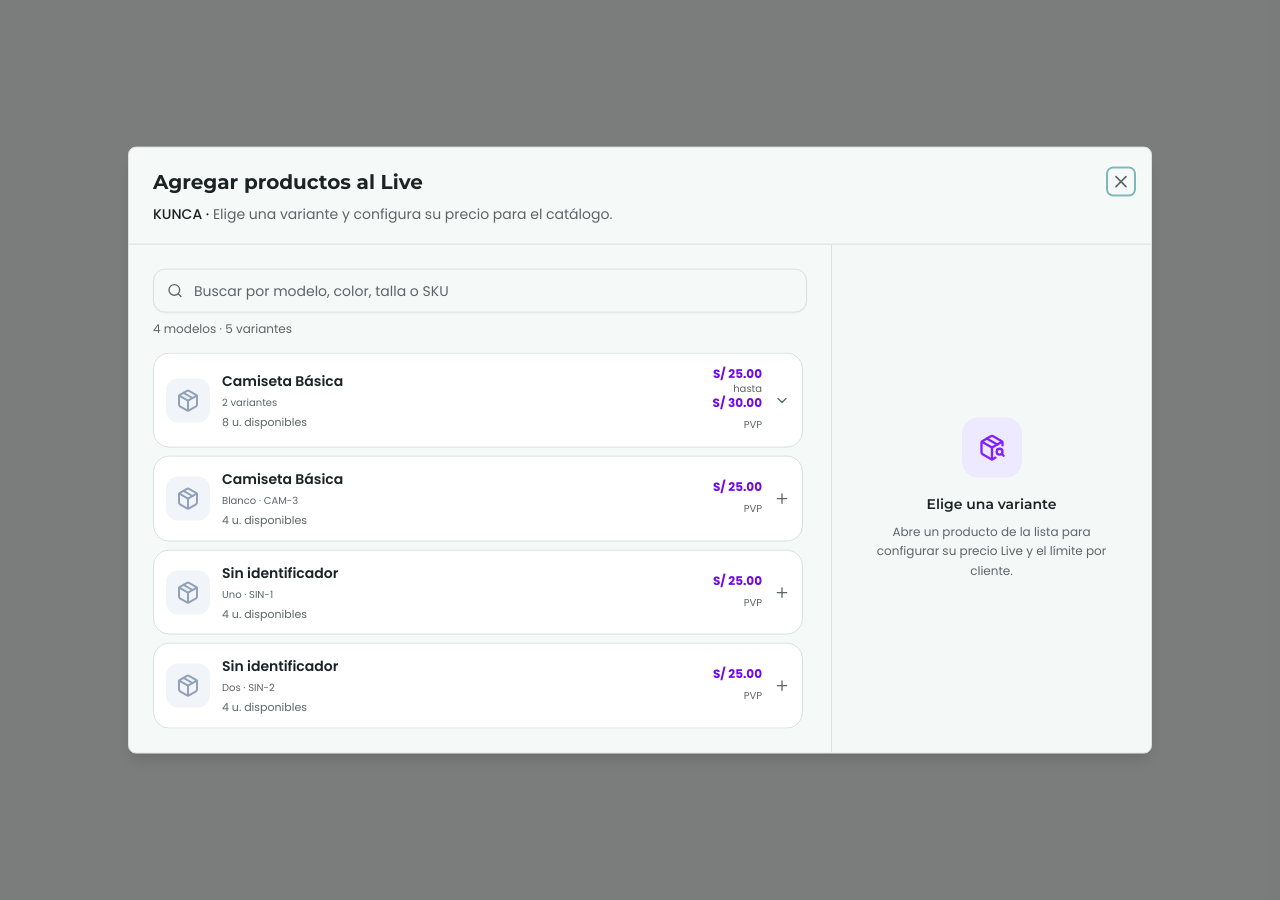
Scenario: groups variants by product ID, keeping homonyms and missing IDs separate
Expected: the text "4 modelos · 5 variantes" is shown, top-left (153, 320), bottom-right (292, 337)
Expected: the text "Camiseta Básica" is shown 2 times, top-left (222, 370), bottom-right (343, 390); top-left (222, 469), bottom-right (343, 489)
Step 1. Click the button with aria-label "Ver variantes de Camiseta Básica (CAM-1)" → {"x": 188, "y": 400}, box top-left (154, 354), bottom-right (802, 447)
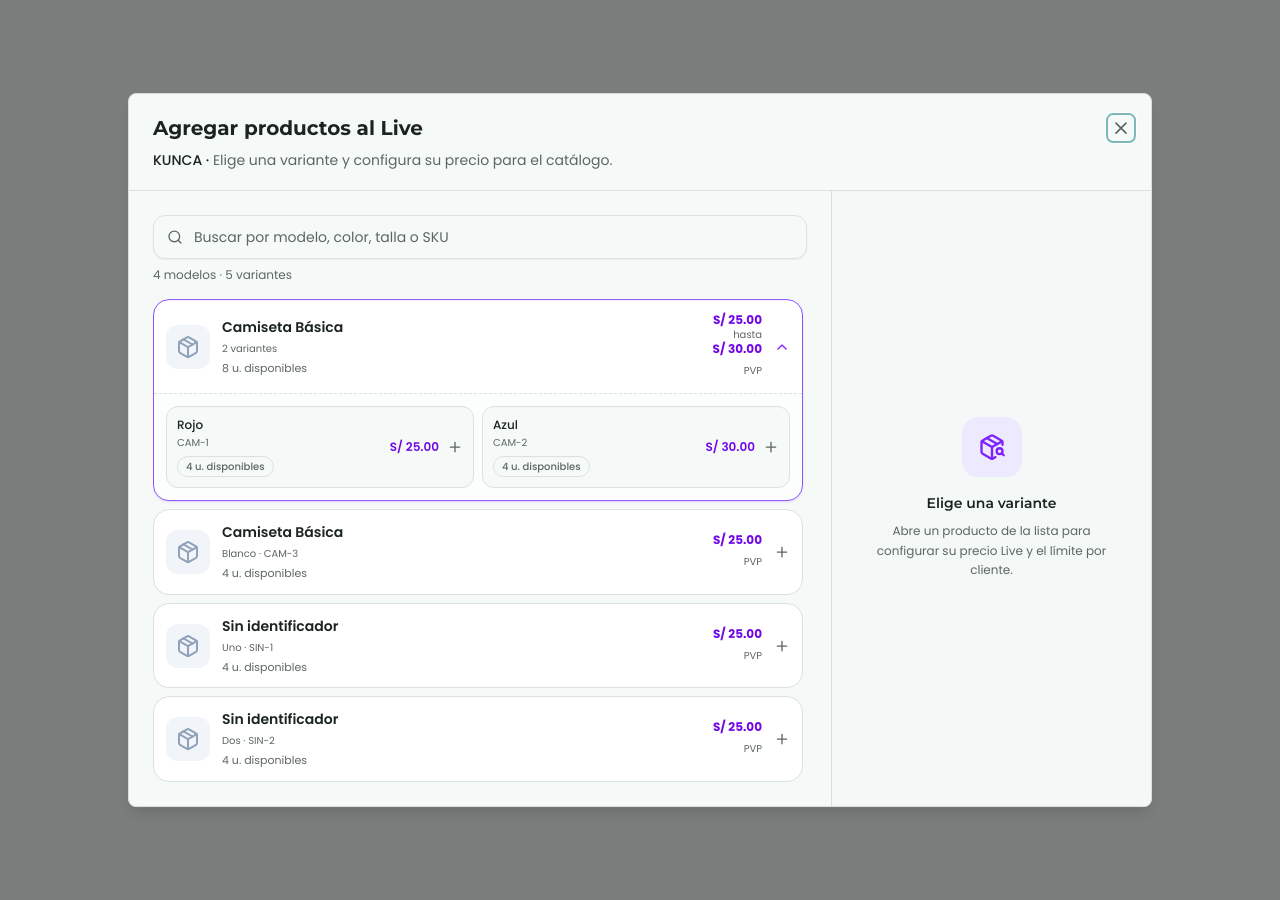
Expected: the text "2 variantes" is shown, top-left (222, 341), bottom-right (277, 356)
Expected: the button with aria-label "Ver variantes de Camiseta Básica (CAM-1)" is expanded, top-left (154, 300), bottom-right (802, 393)
Expected: the button with aria-label "Configurar Camiseta Básica, Azul, SKU CAM-2" is shown, top-left (482, 406), bottom-right (790, 488)
Step 2. Type "CAM-2" into the field named "Buscar producto para live" → {"x": 480, "y": 237}, box top-left (153, 215), bottom-right (807, 259)
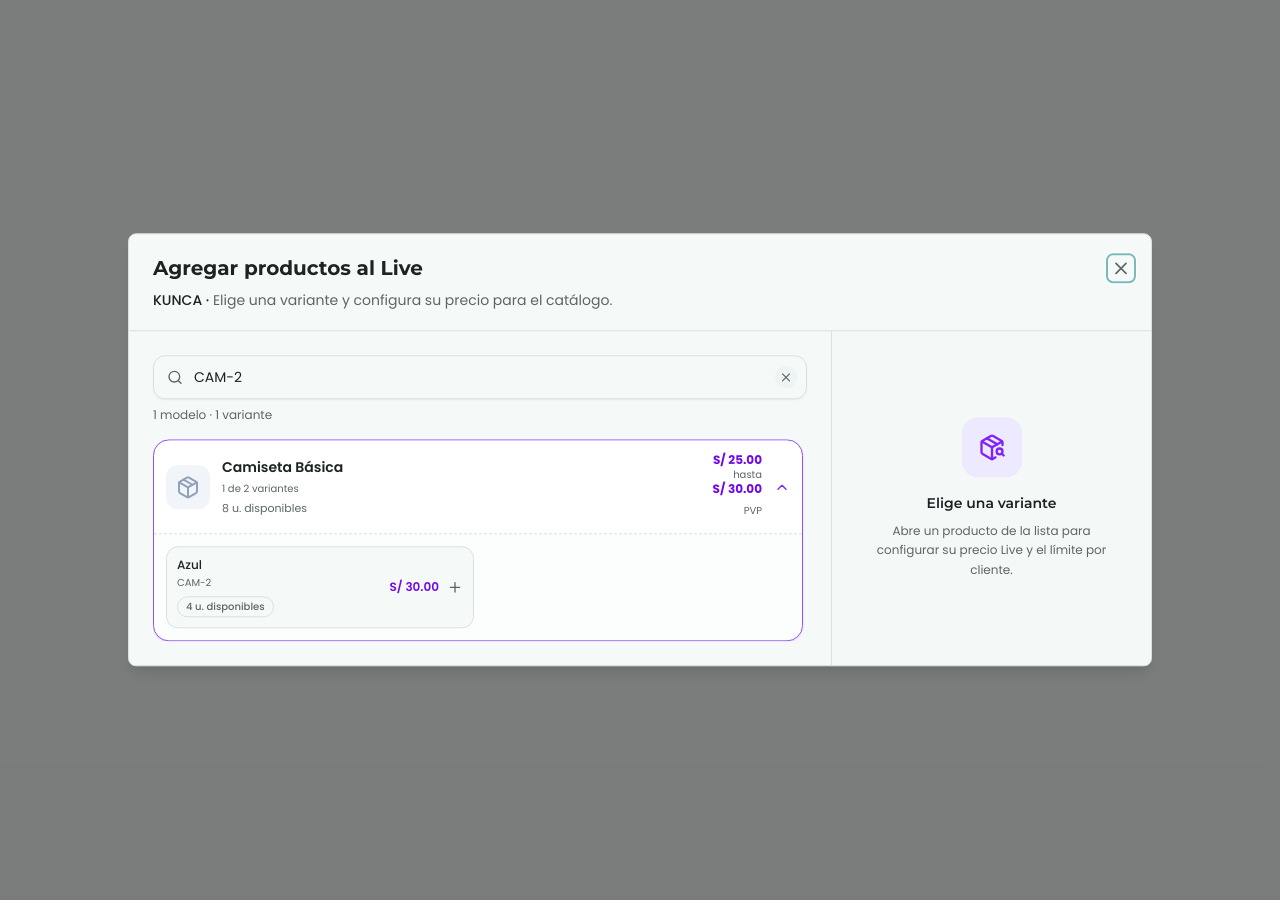
Expected: the text "1 modelo · 1 variante" is shown, top-left (153, 406), bottom-right (272, 423)
Expected: the text "1 de 2 variantes" is shown, top-left (222, 481), bottom-right (299, 496)
